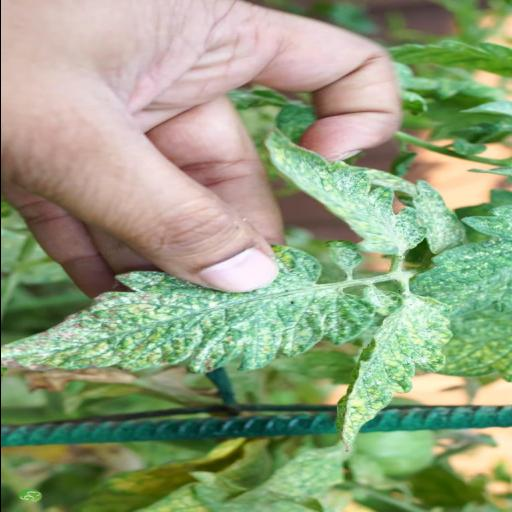disease_tomato: (0, 240, 370, 378), (263, 124, 433, 256), (332, 294, 460, 454), (407, 200, 512, 317), (427, 287, 512, 384), (414, 177, 466, 253)
